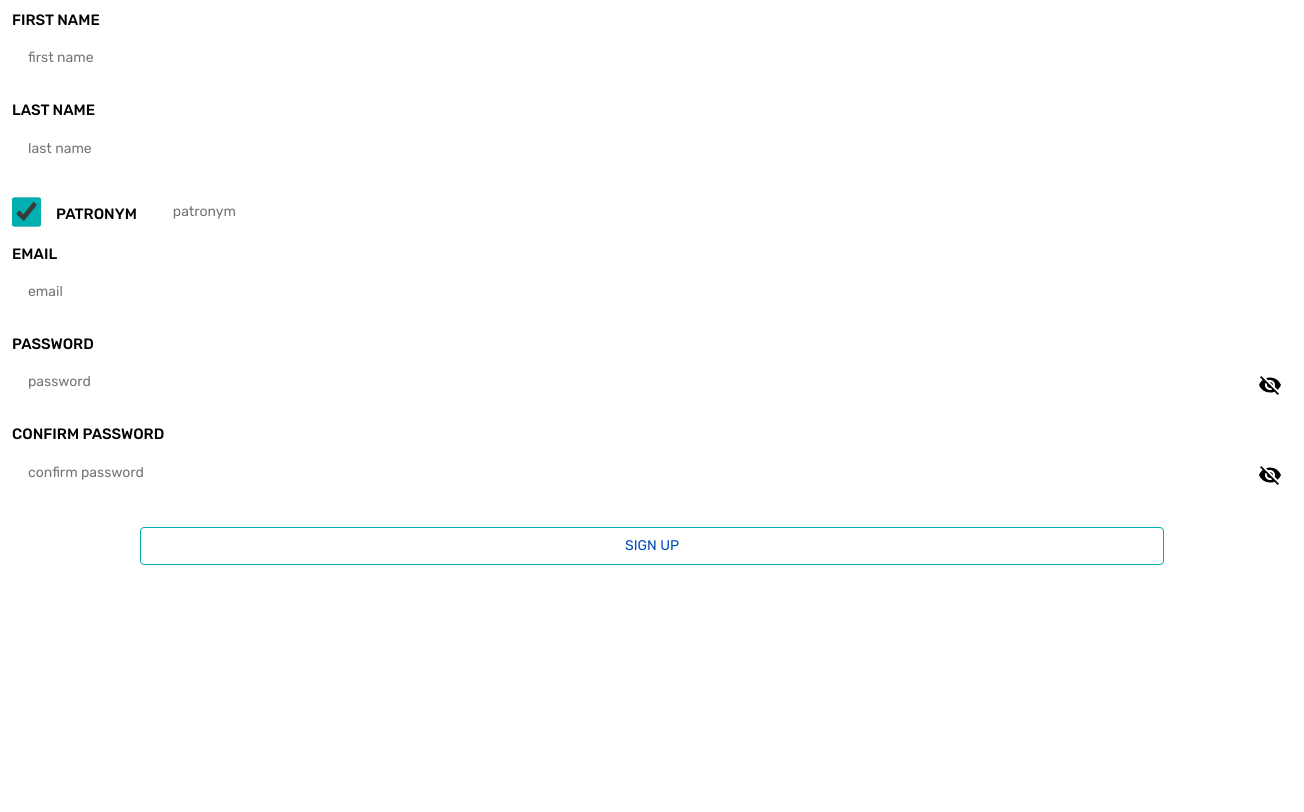
it: SignUpForm component › Test field validation "pattern"
In the field labelled "first name": (652, 58) [12,39,1292,77], type "123"
In the field labelled "last name": (652, 149) [12,130,1292,168], type "@##"
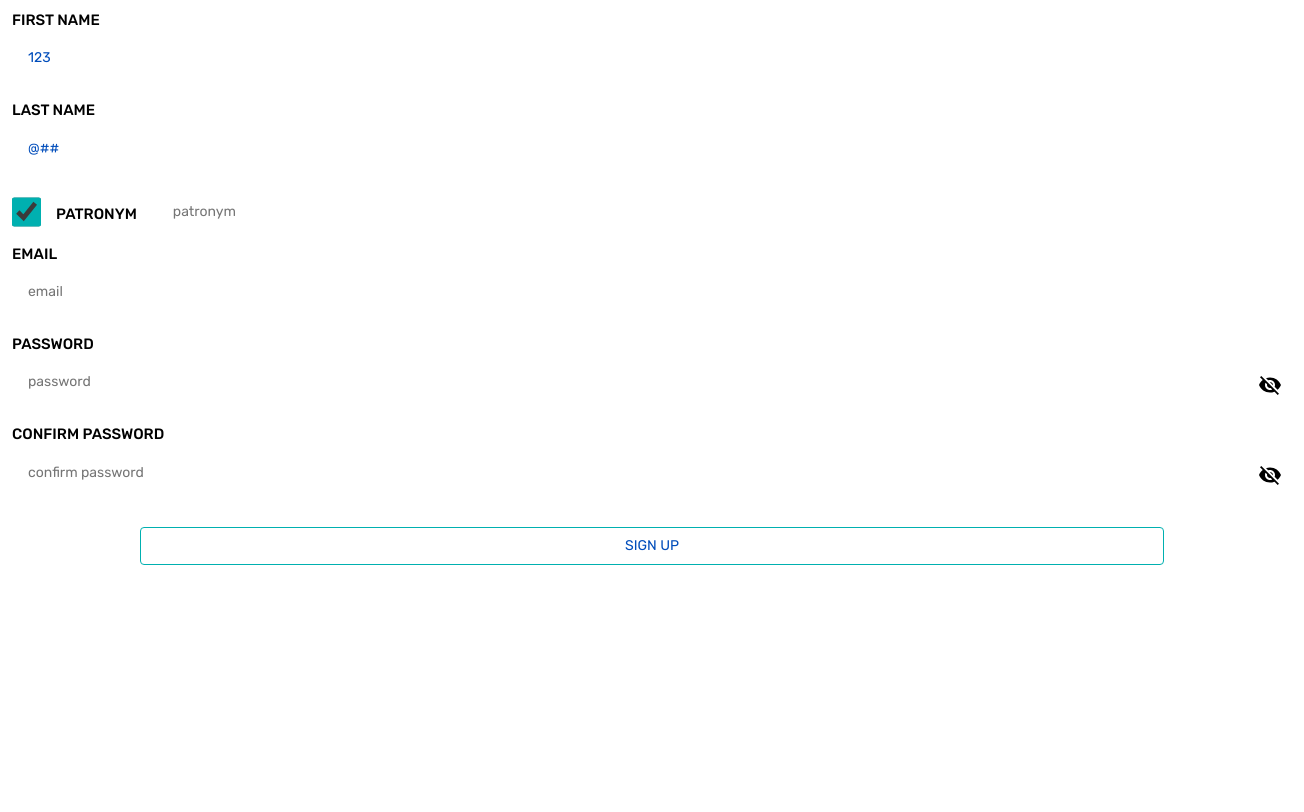
In the field labelled "email": (652, 292) [12,273,1292,311], type "!@#"
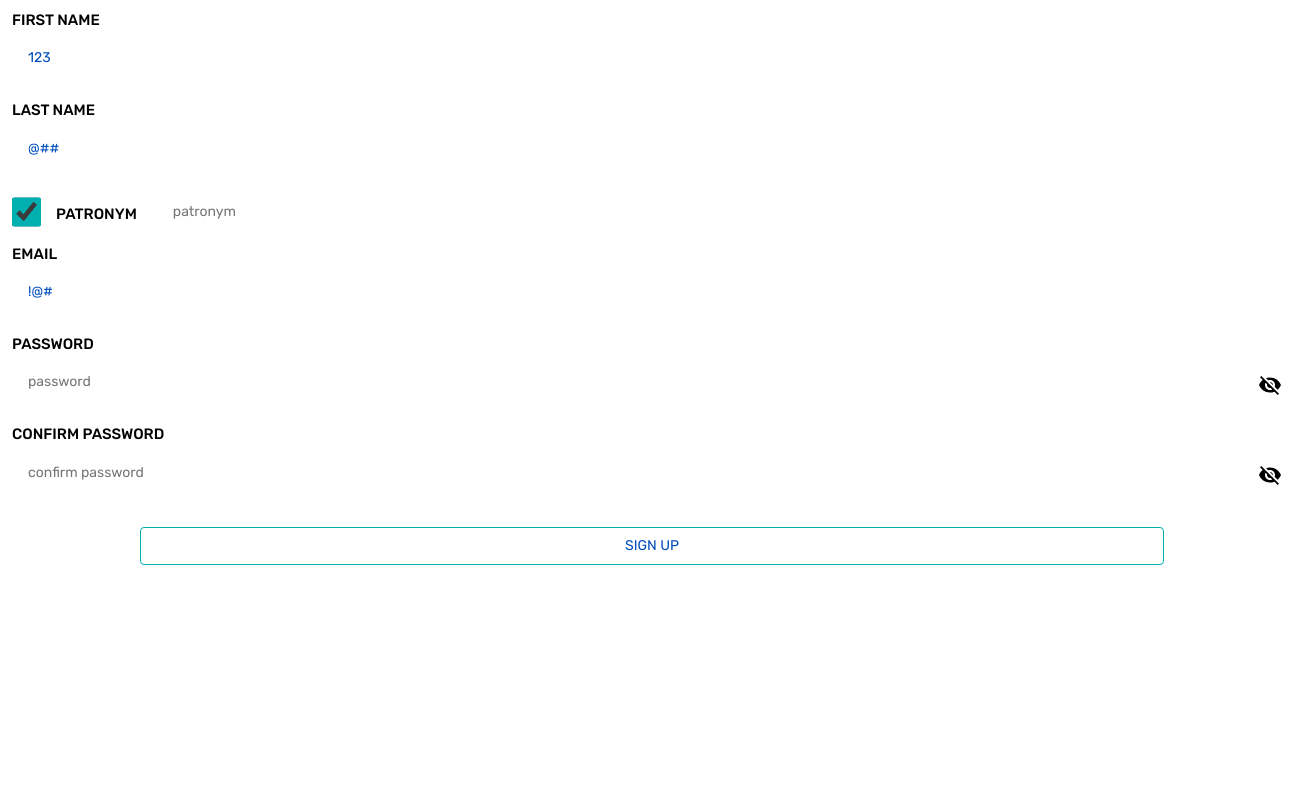
In the password field with test id "sign-up-input-password": (652, 382) [12,363,1292,402], type "12345"
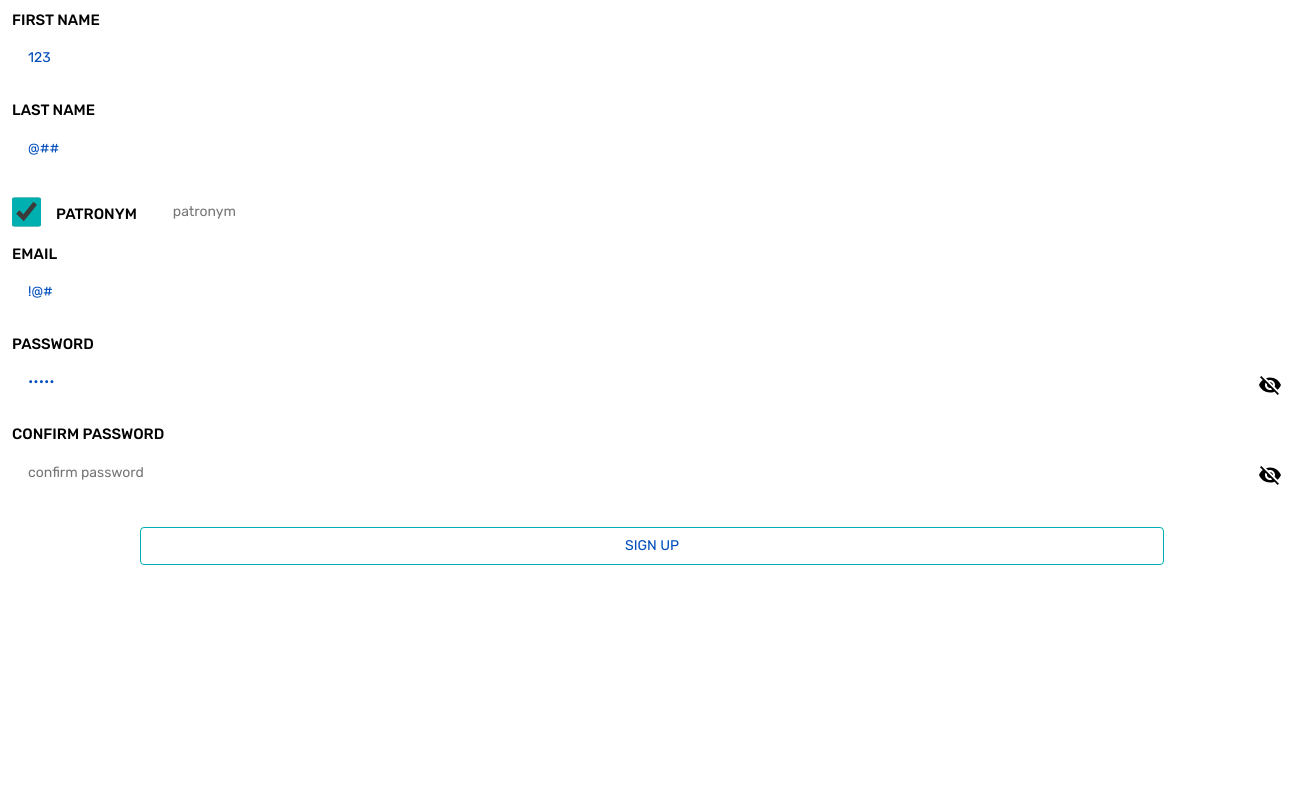
In the password field with test id "sign-up-input-password-confirm": (652, 473) [12,454,1292,492], type "!@#$#$###"
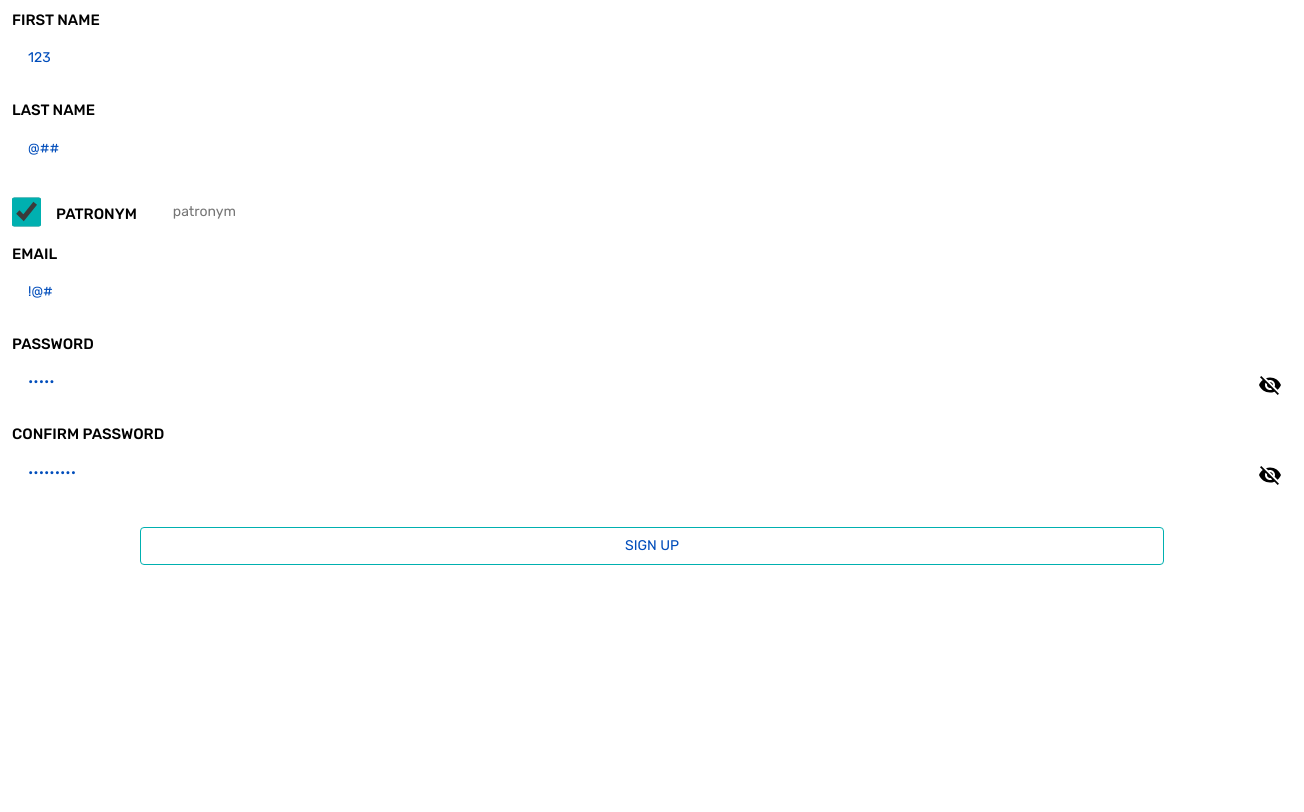
Click the checkbox: (26, 212) [12,197,41,227]
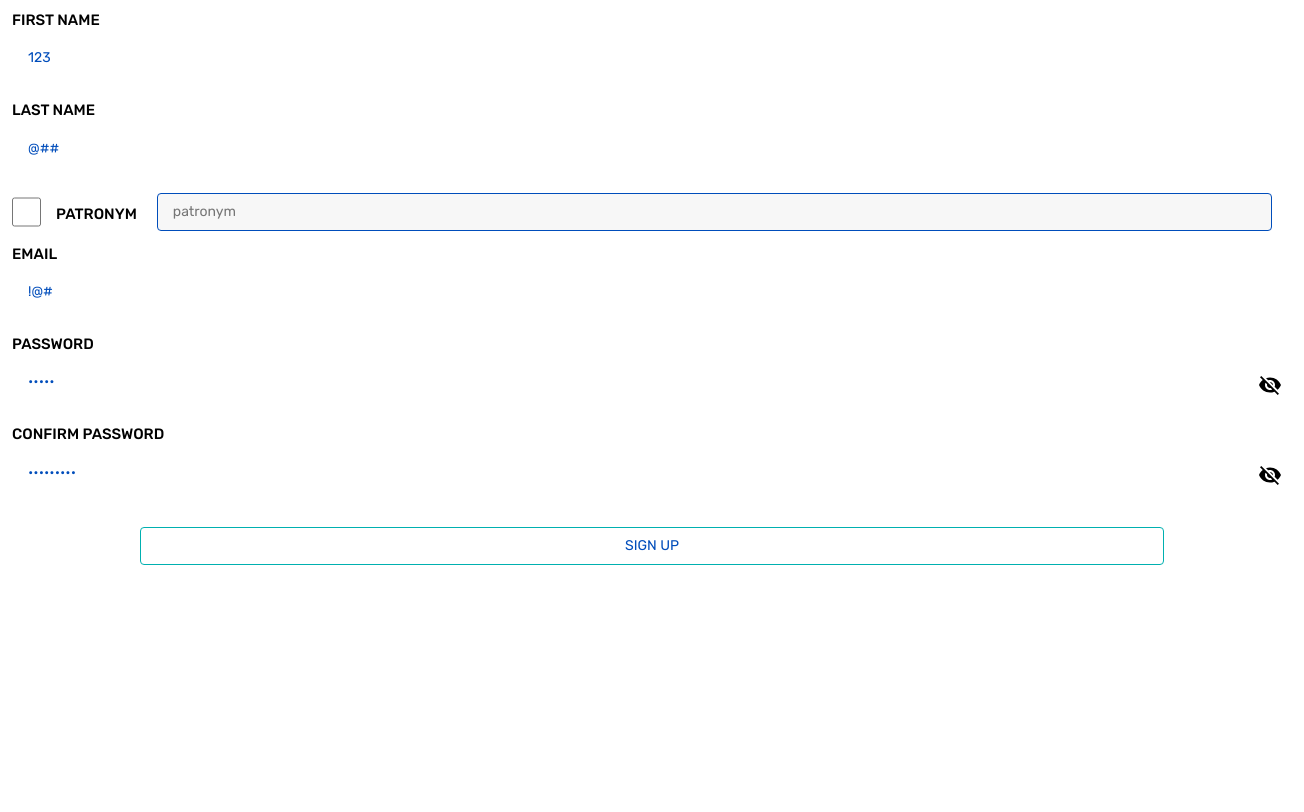
Click the button "sign up": (652, 546) [140,527,1164,565]
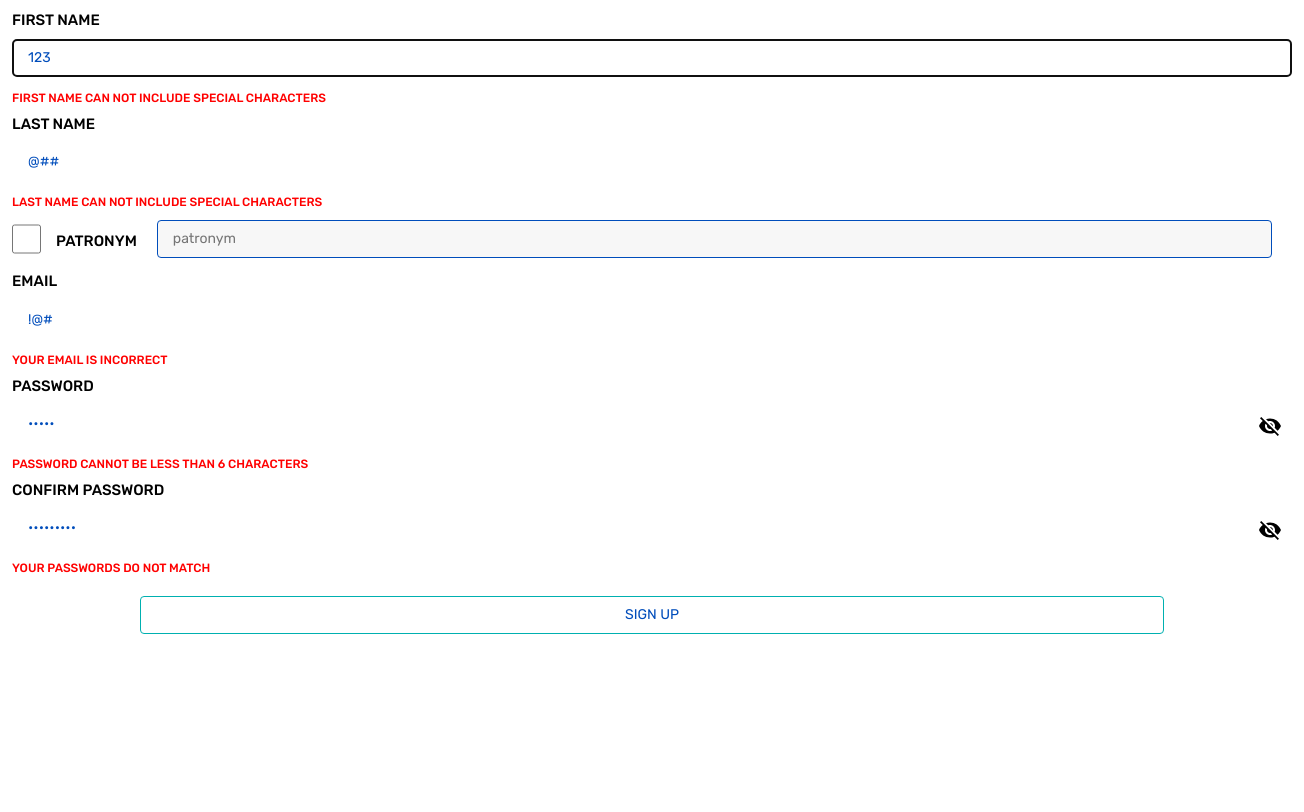
Now the text "first name can not include special characters" is shown, box [12,91,326,105]
Now the text "last name can not include special characters" is shown, box [12,196,322,210]
Now the text "your email is incorrect" is shown, box [12,353,168,367]
